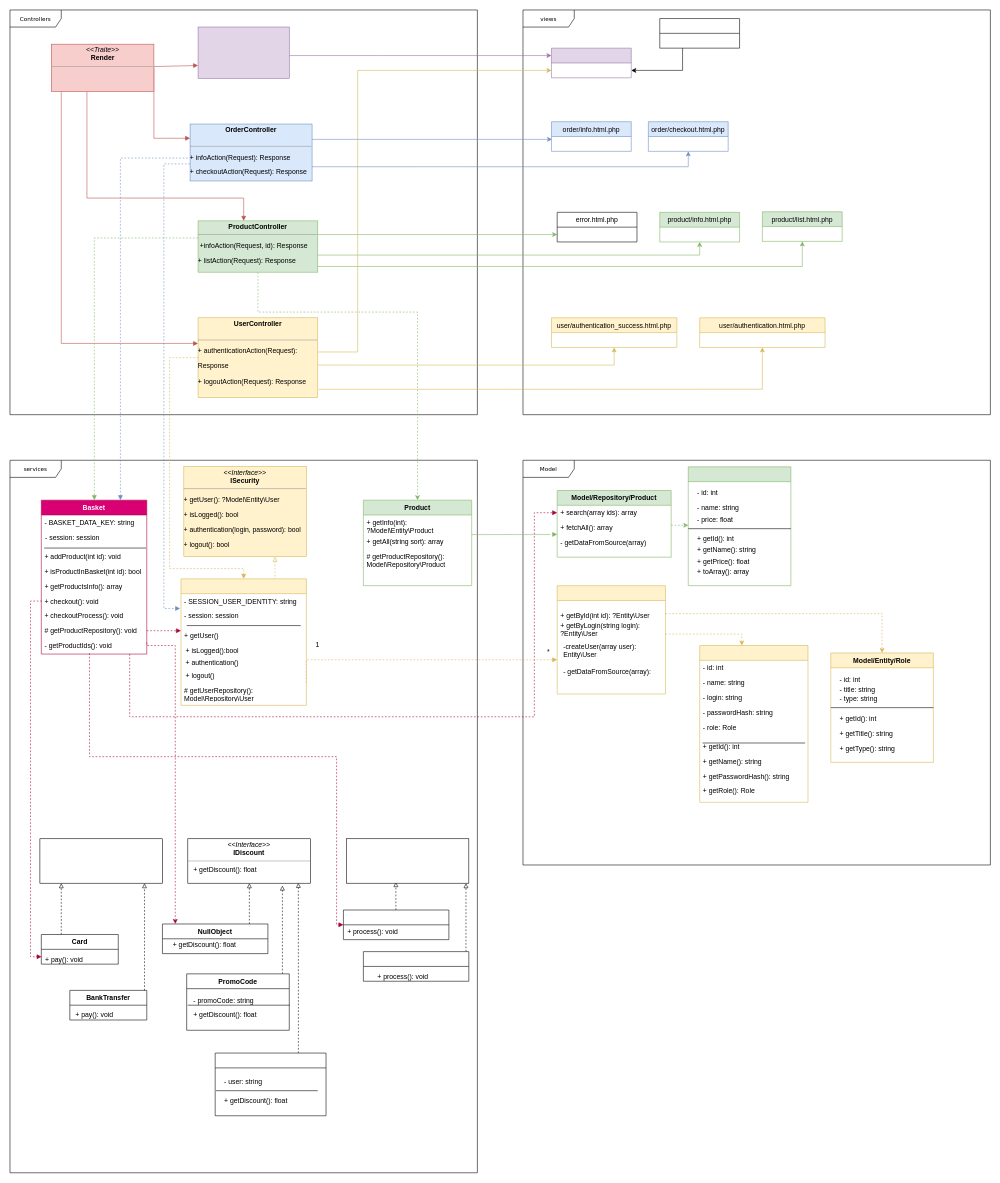
This 1000x1183 diagram has some shape labels left out. Each missing label, with the box of its shape:
<<Interface>> IBilling + pay(): void: (39, 838, 162, 883)
<<Interface>> ICommunication + process(): void: (346, 838, 469, 883)
Email: (343, 909, 449, 940)
main/index.html: (551, 48, 631, 78)
main_templaite.html.php: (659, 18, 740, 48)
MainController + indexAction(): Response: (198, 26, 289, 78)
Model/Entity/Product: (688, 466, 791, 586)
Model/Entity/User: (699, 645, 808, 802)
Model/Repository/User: (557, 585, 665, 694)
Security: (180, 578, 306, 705)
Sms: (363, 951, 469, 981)
VipDiscount: (215, 1053, 326, 1116)
